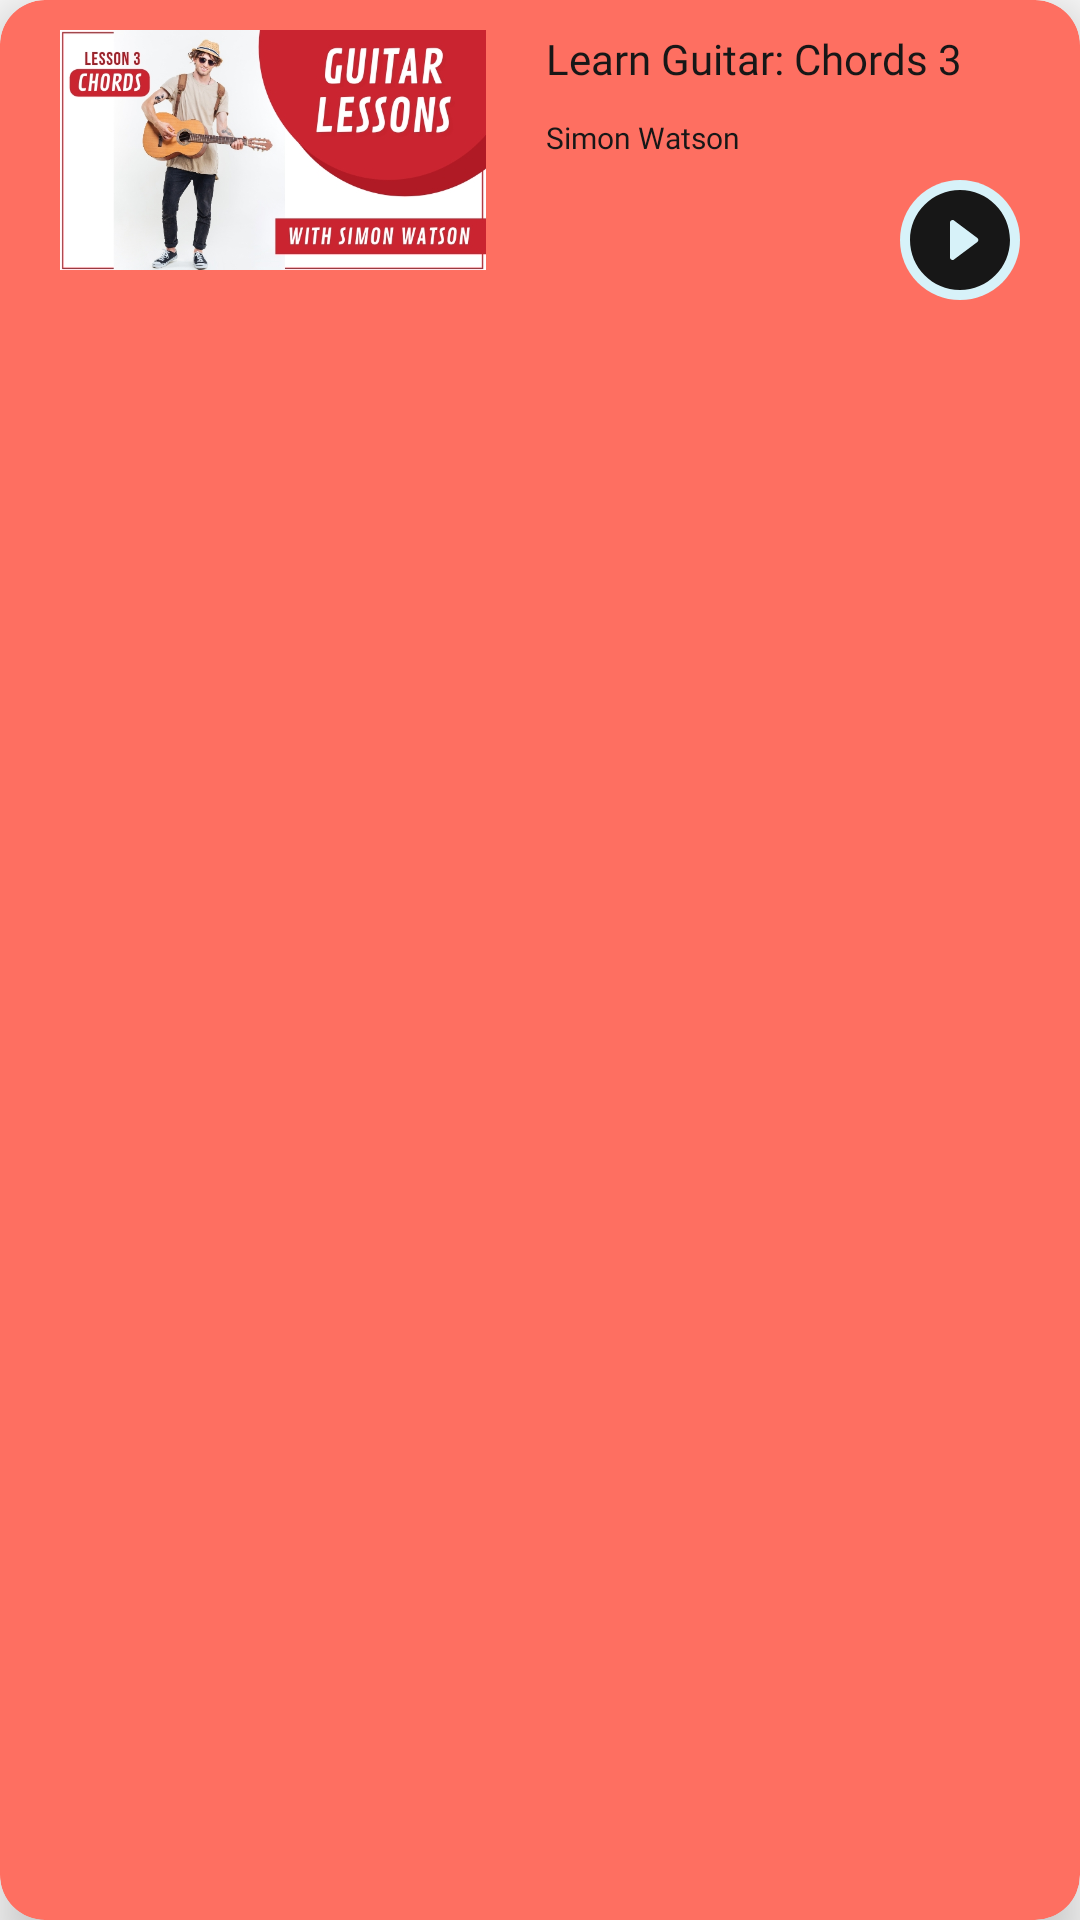

Icon click points for this 1080 × 1920 phone screenshot, format (x=x, y=y):
play: (x=960, y=240)
